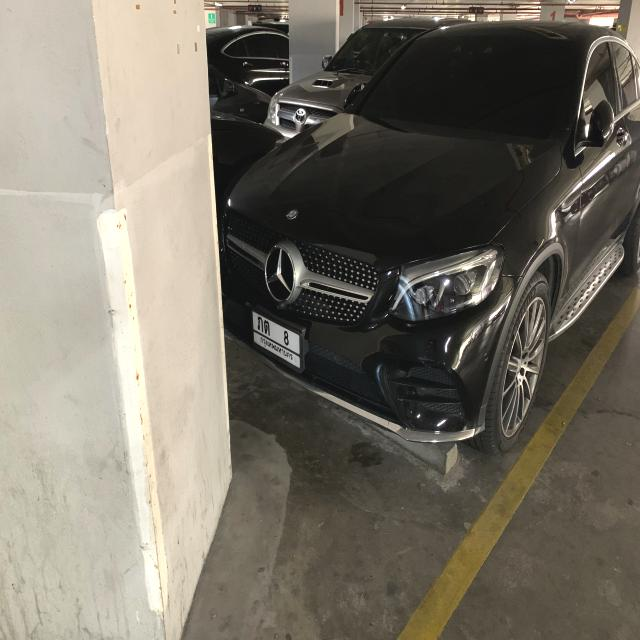license_plate: (250, 303, 308, 372)
